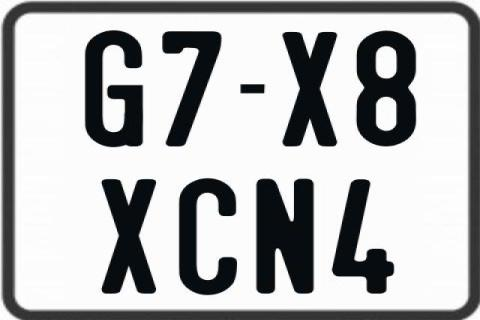0: (159, 30, 224, 146), (354, 31, 415, 151), (331, 178, 393, 294)
C: (179, 177, 238, 295)
G: (83, 29, 145, 151)
N: (255, 176, 314, 296)
X: (99, 179, 156, 299), (281, 30, 340, 144)
